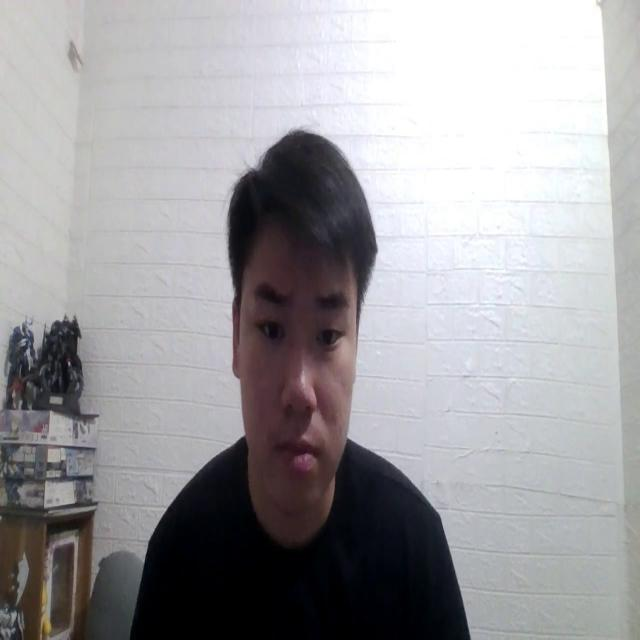student: (131, 130, 472, 640)
